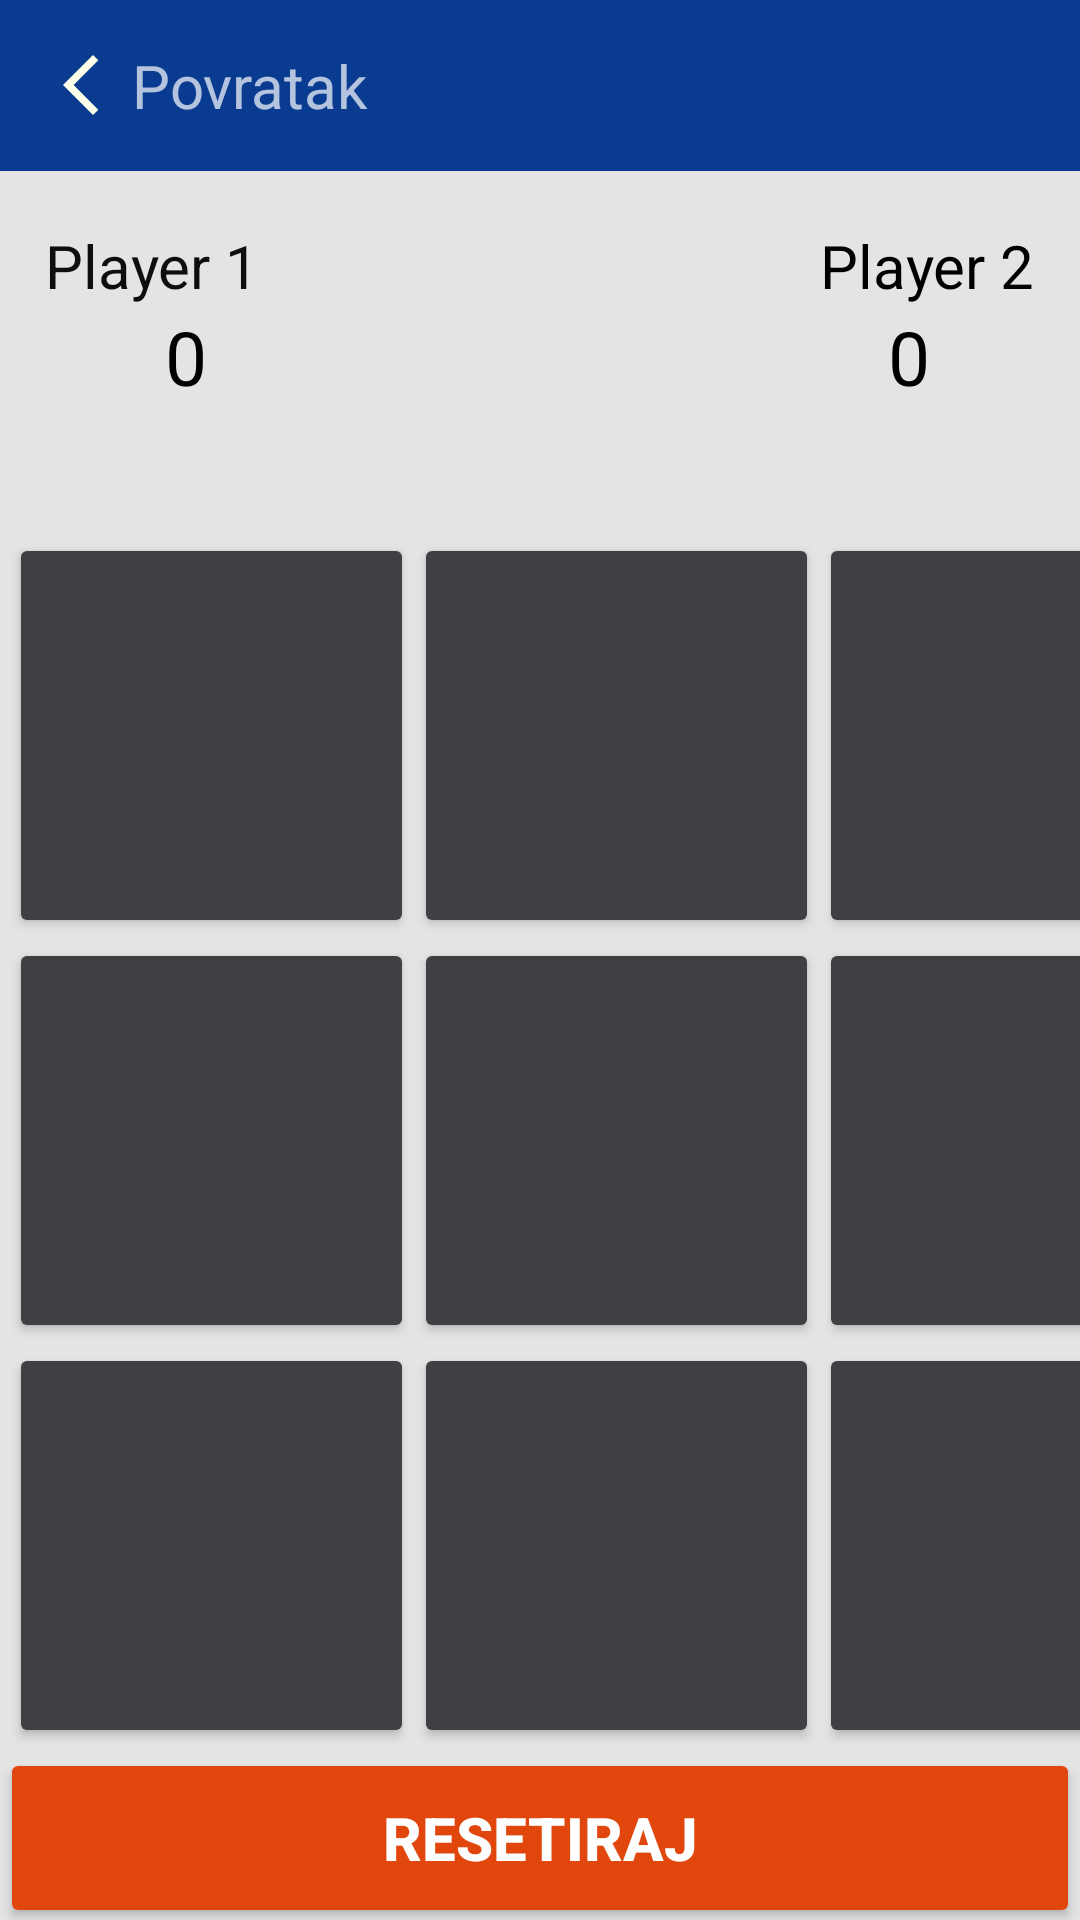

Icons on this 1080 x 1920 Android screen, each with the point to tap as (x=x, y=y):
arrow back: (x=80, y=85)
